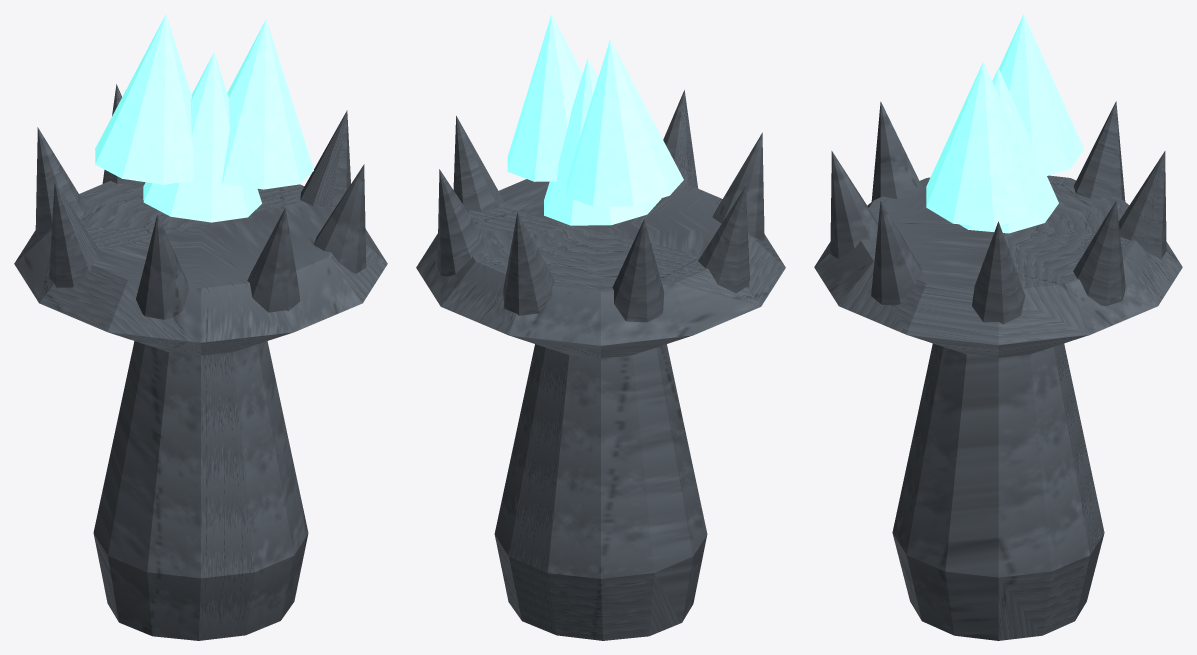
File: spectral_brazier.glb
3 views of the same model, side by side, from view 1: azimuth 30°, elevation 25°; view 2: azimuth 150°, elevation 25°; view 3: azimuth 270°, elevation 25° (orthographic).
Parts seen in each view (by area): view 1: iron, glowcyan; view 2: iron, glowcyan; view 3: iron, glowcyan.
Part boxes in pixels (box(x1,y1,x2,y2)): iron: box(14, 84, 387, 640); glowcyan: box(95, 14, 313, 222); iron: box(416, 90, 785, 640); glowcyan: box(507, 14, 683, 225); iron: box(814, 101, 1182, 640); glowcyan: box(926, 14, 1084, 233).
Size of the model in its own units: 1.46 by 2.52 by 1.46.
3 materials, 3 textured.
